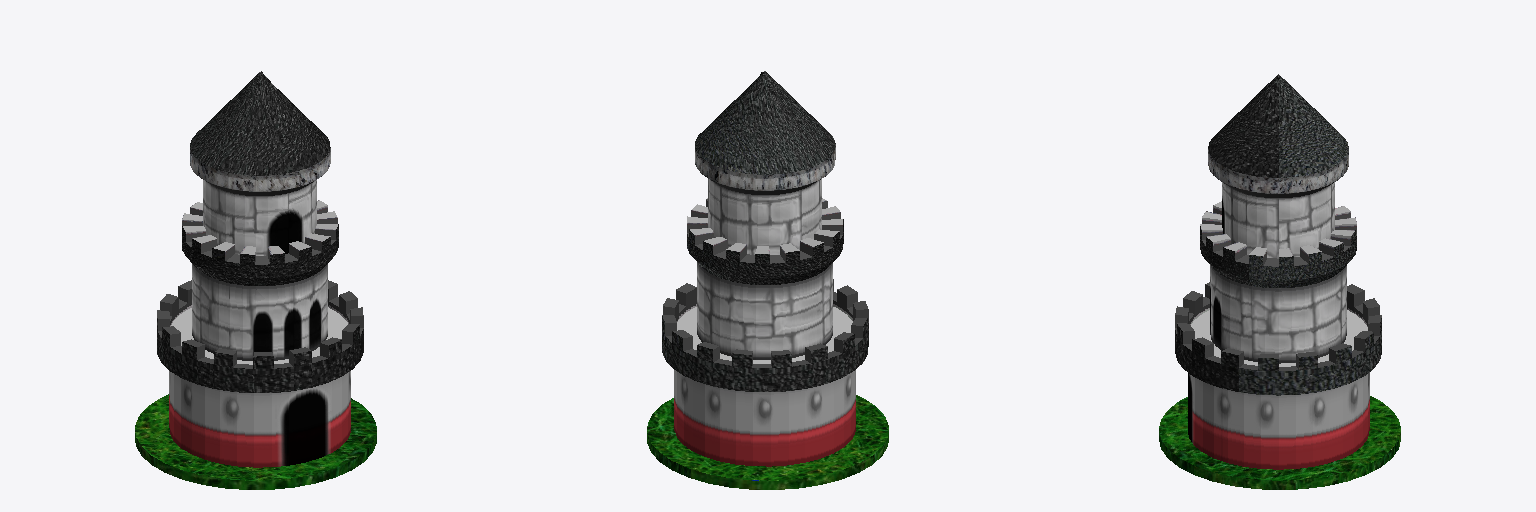
3 views of the same model, side by side, from view 1: azimuth 30°, elevation 25°; view 2: azimuth 150°, elevation 25°; view 3: azimuth 270°, elevation 25° (orthographic).
Parts seen in each view (by area): view 1: Cube; view 2: Cube; view 3: Cube.
Part boxes in pixels (bbox=[...]): Cube: bbox=[135, 71, 376, 489]; Cube: bbox=[647, 71, 888, 489]; Cube: bbox=[1159, 74, 1400, 489].
Bounding box in the file's own units: 8 × 13.32 × 8.
Materials: 1 (1 with a texture image).